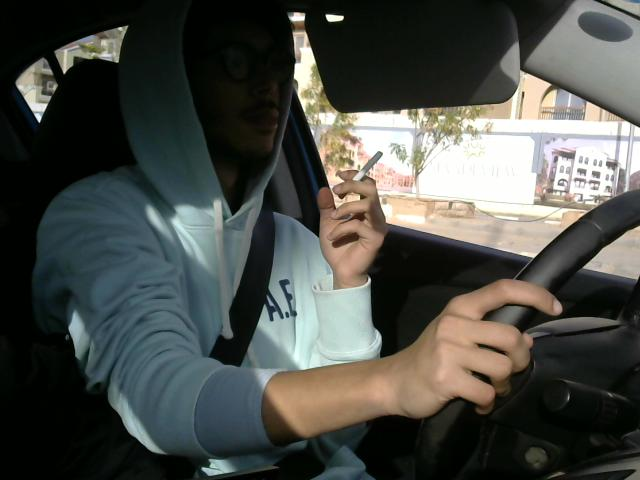Smoking: (330, 146, 388, 202)
